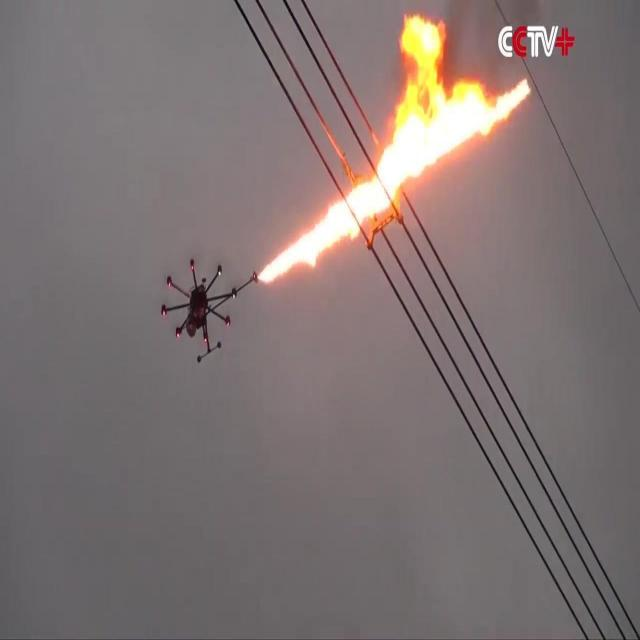UAV: (162, 258, 258, 362)
